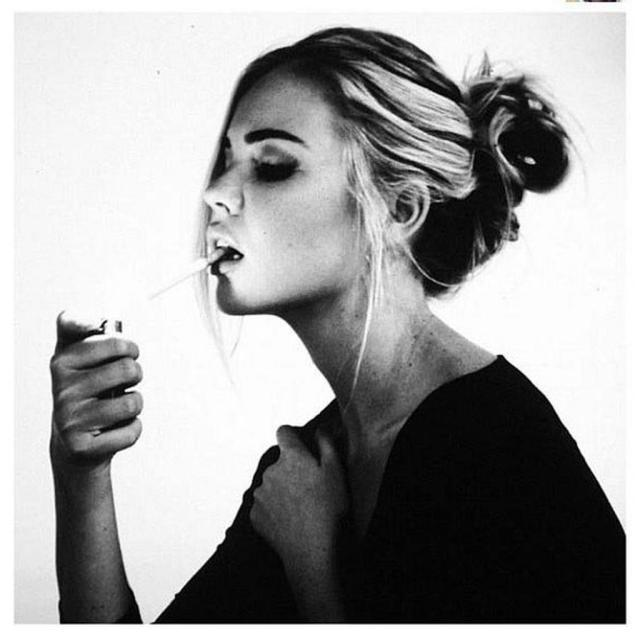smoking: (126, 29, 450, 348)
